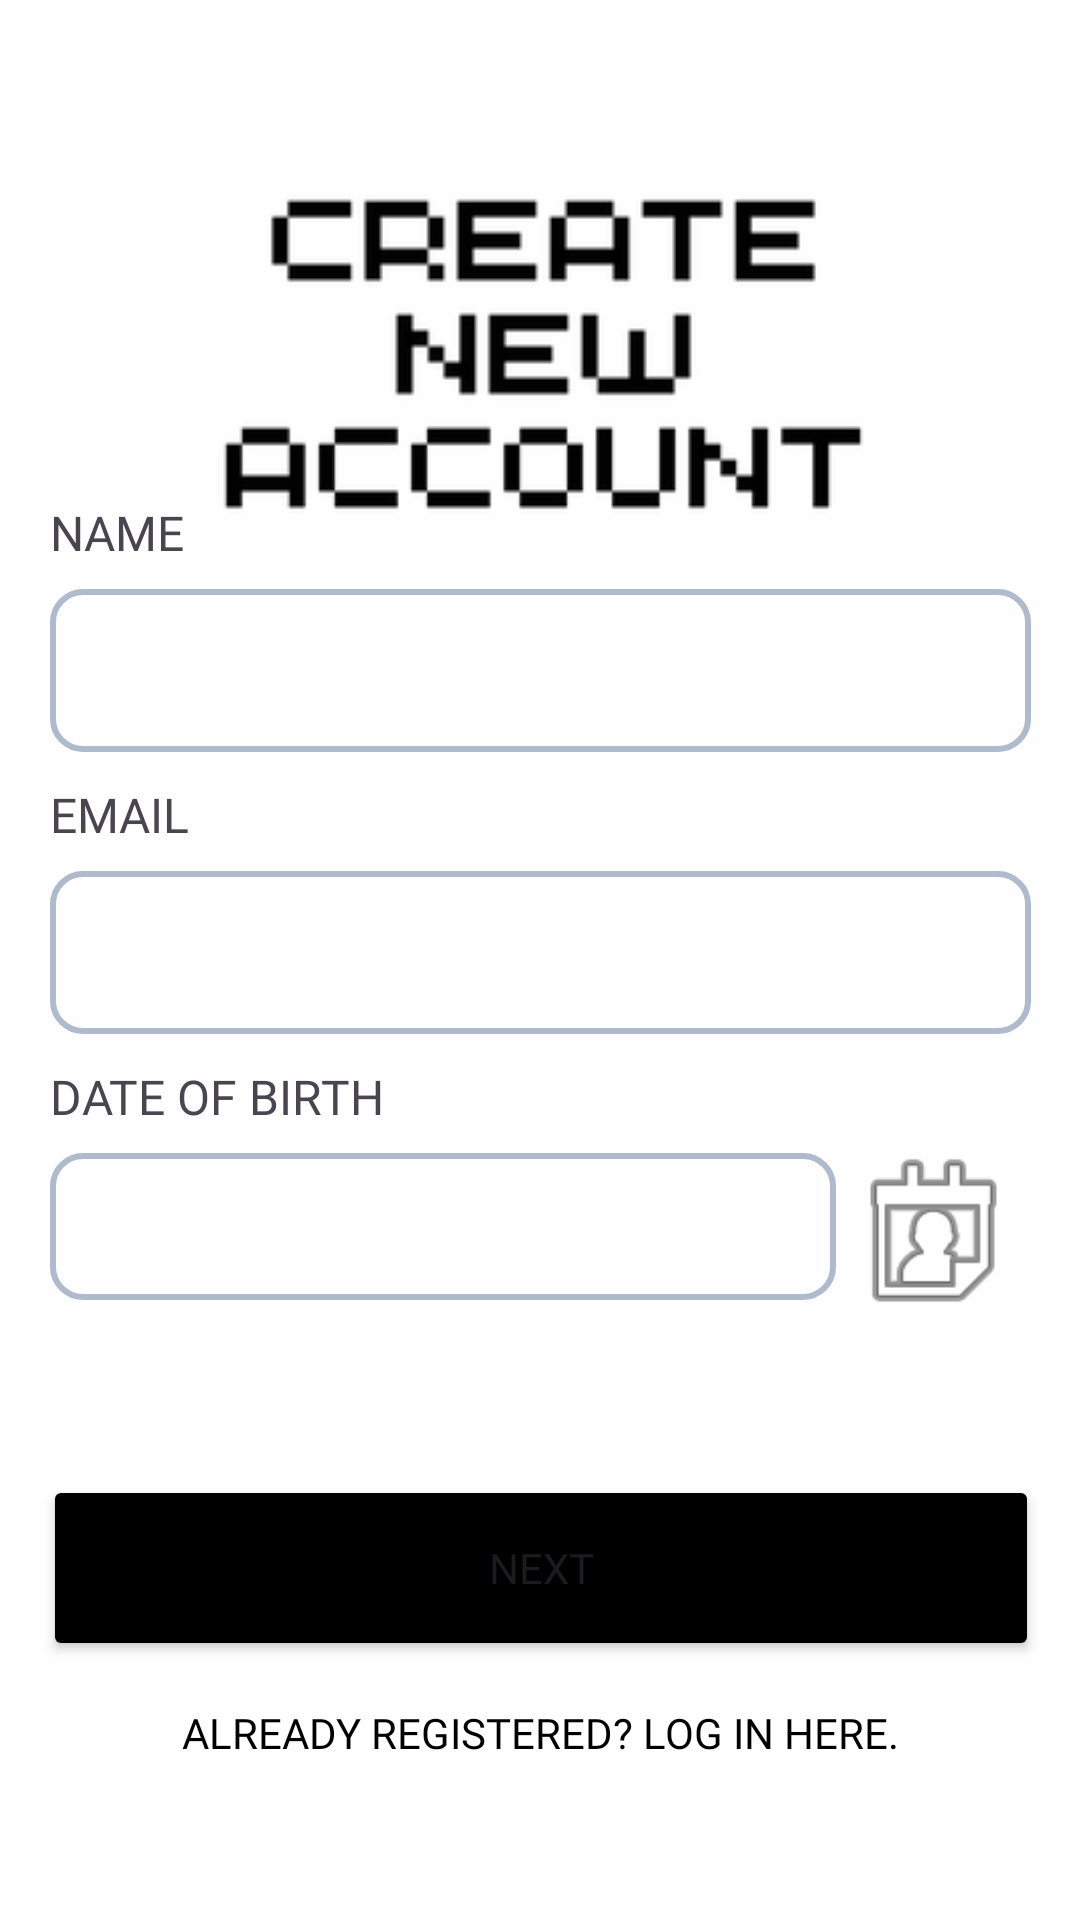

Icon click points for this 1080 x 1920 phone screenshot, format (x=x, y=y):
calendar: (x=933, y=1230)
